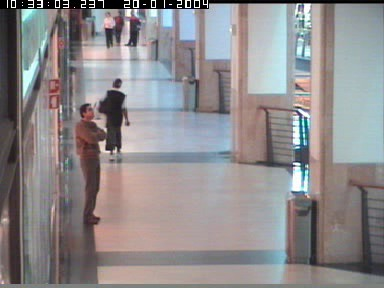person: (75, 103, 107, 225), (92, 77, 130, 160), (124, 11, 142, 47), (102, 12, 114, 49), (113, 11, 125, 43)
